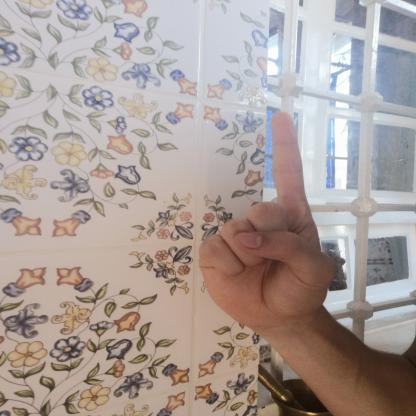BAA: (183, 100, 343, 348)
